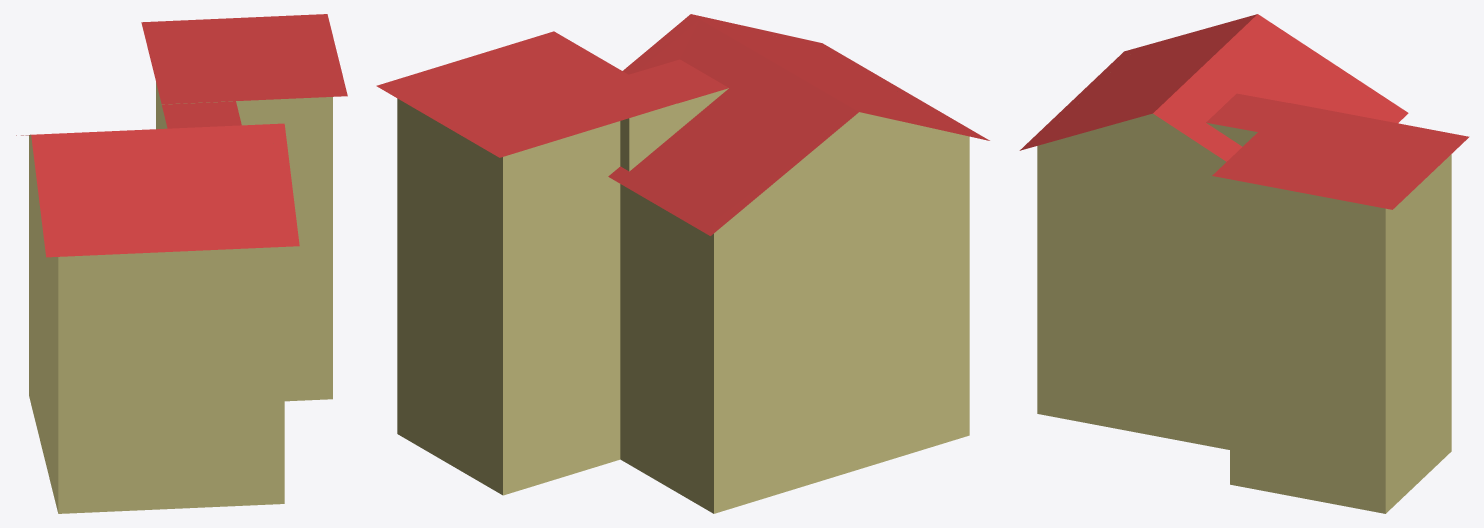
3 renders of one model, left to right at view 1: azimuth 30°, elevation 25°; view 2: azimuth 150°, elevation 25°; view 3: azimuth 270°, elevation 25°, orthographic. The views are drawn at different scales.
Bounding box in the file's own units: 17.59 × 16.38 × 13.18.
